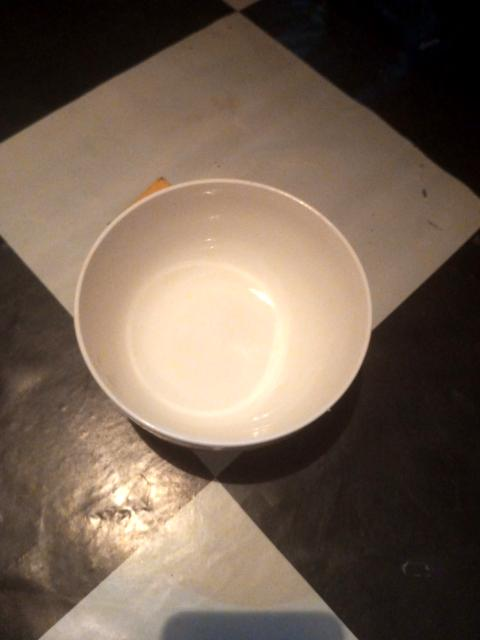Bowl: (75, 180, 371, 448)
